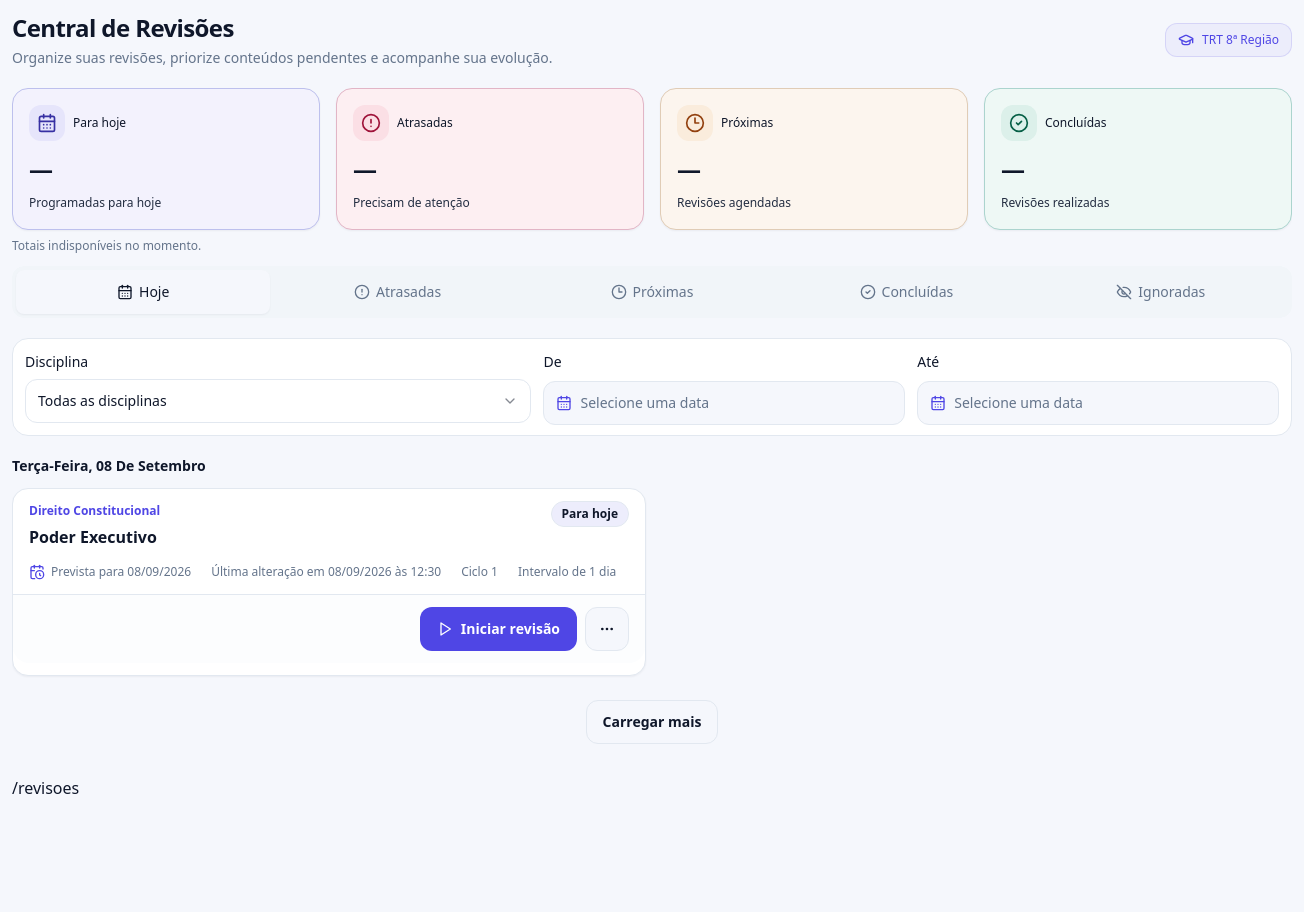
it: Revisoes › carrega a próxima página a partir do cursor
Click the button "Carregar mais" at (652, 722), box [586, 700, 718, 744]
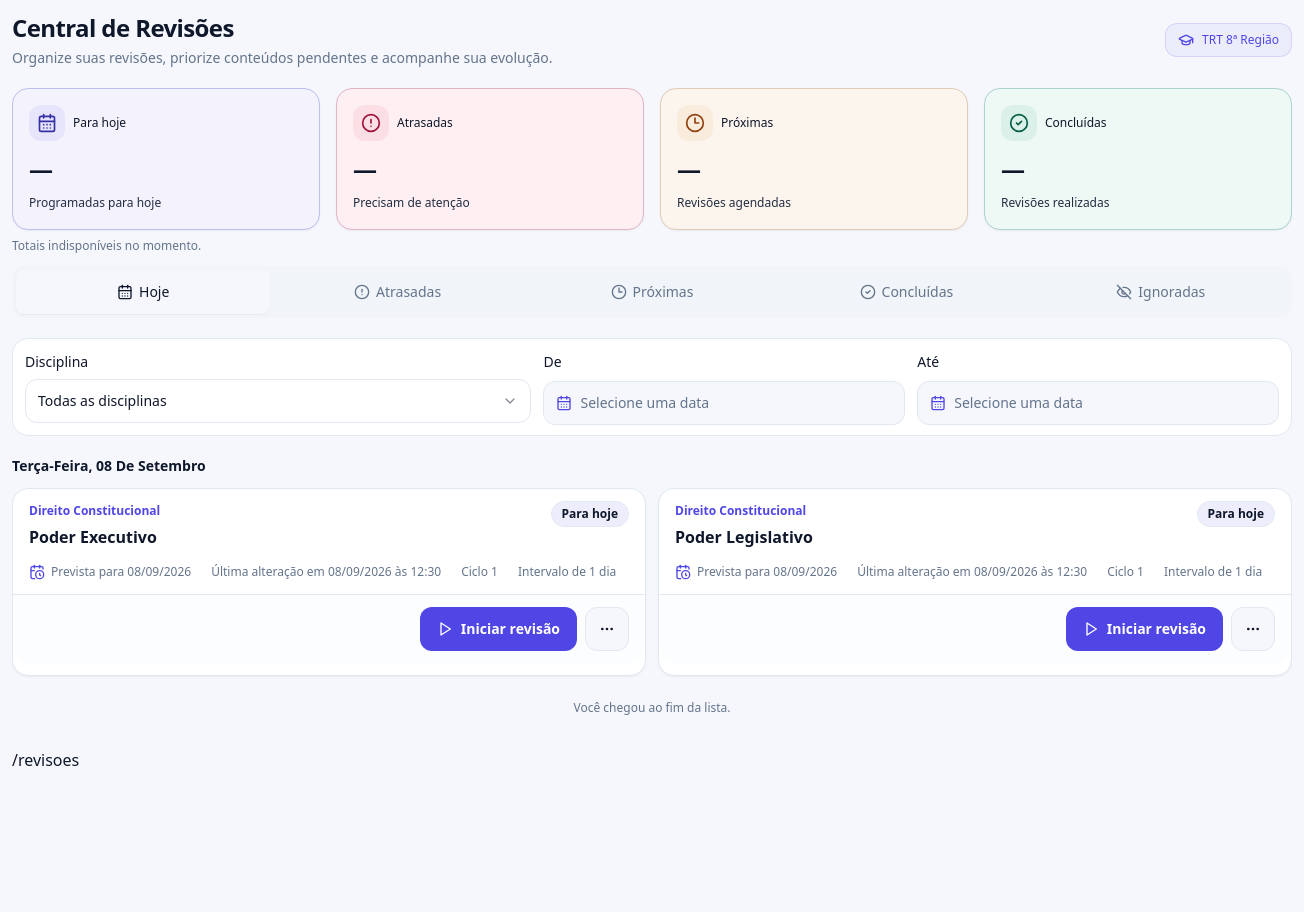
Result: the text "Poder Legislativo" is shown at [675, 526, 813, 548]
